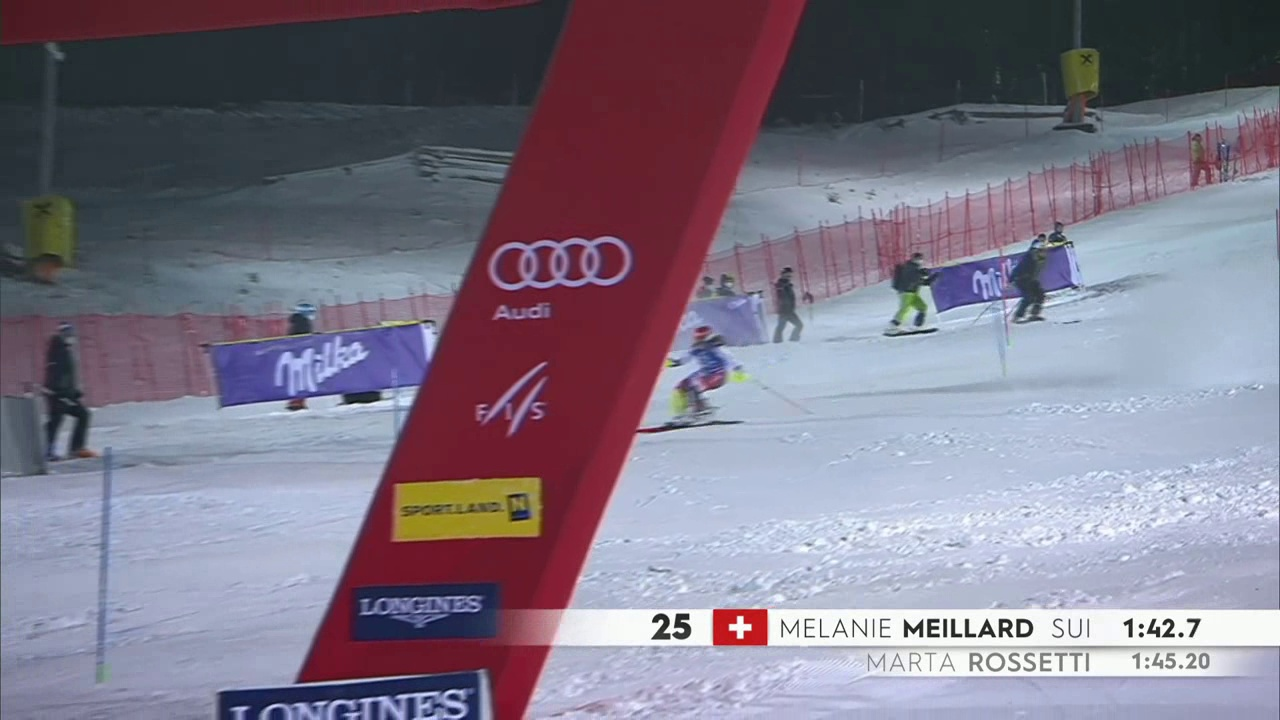audi: (486, 227, 636, 300)
longines: (222, 677, 475, 719), (344, 584, 506, 642)
milka: (223, 331, 413, 404)
